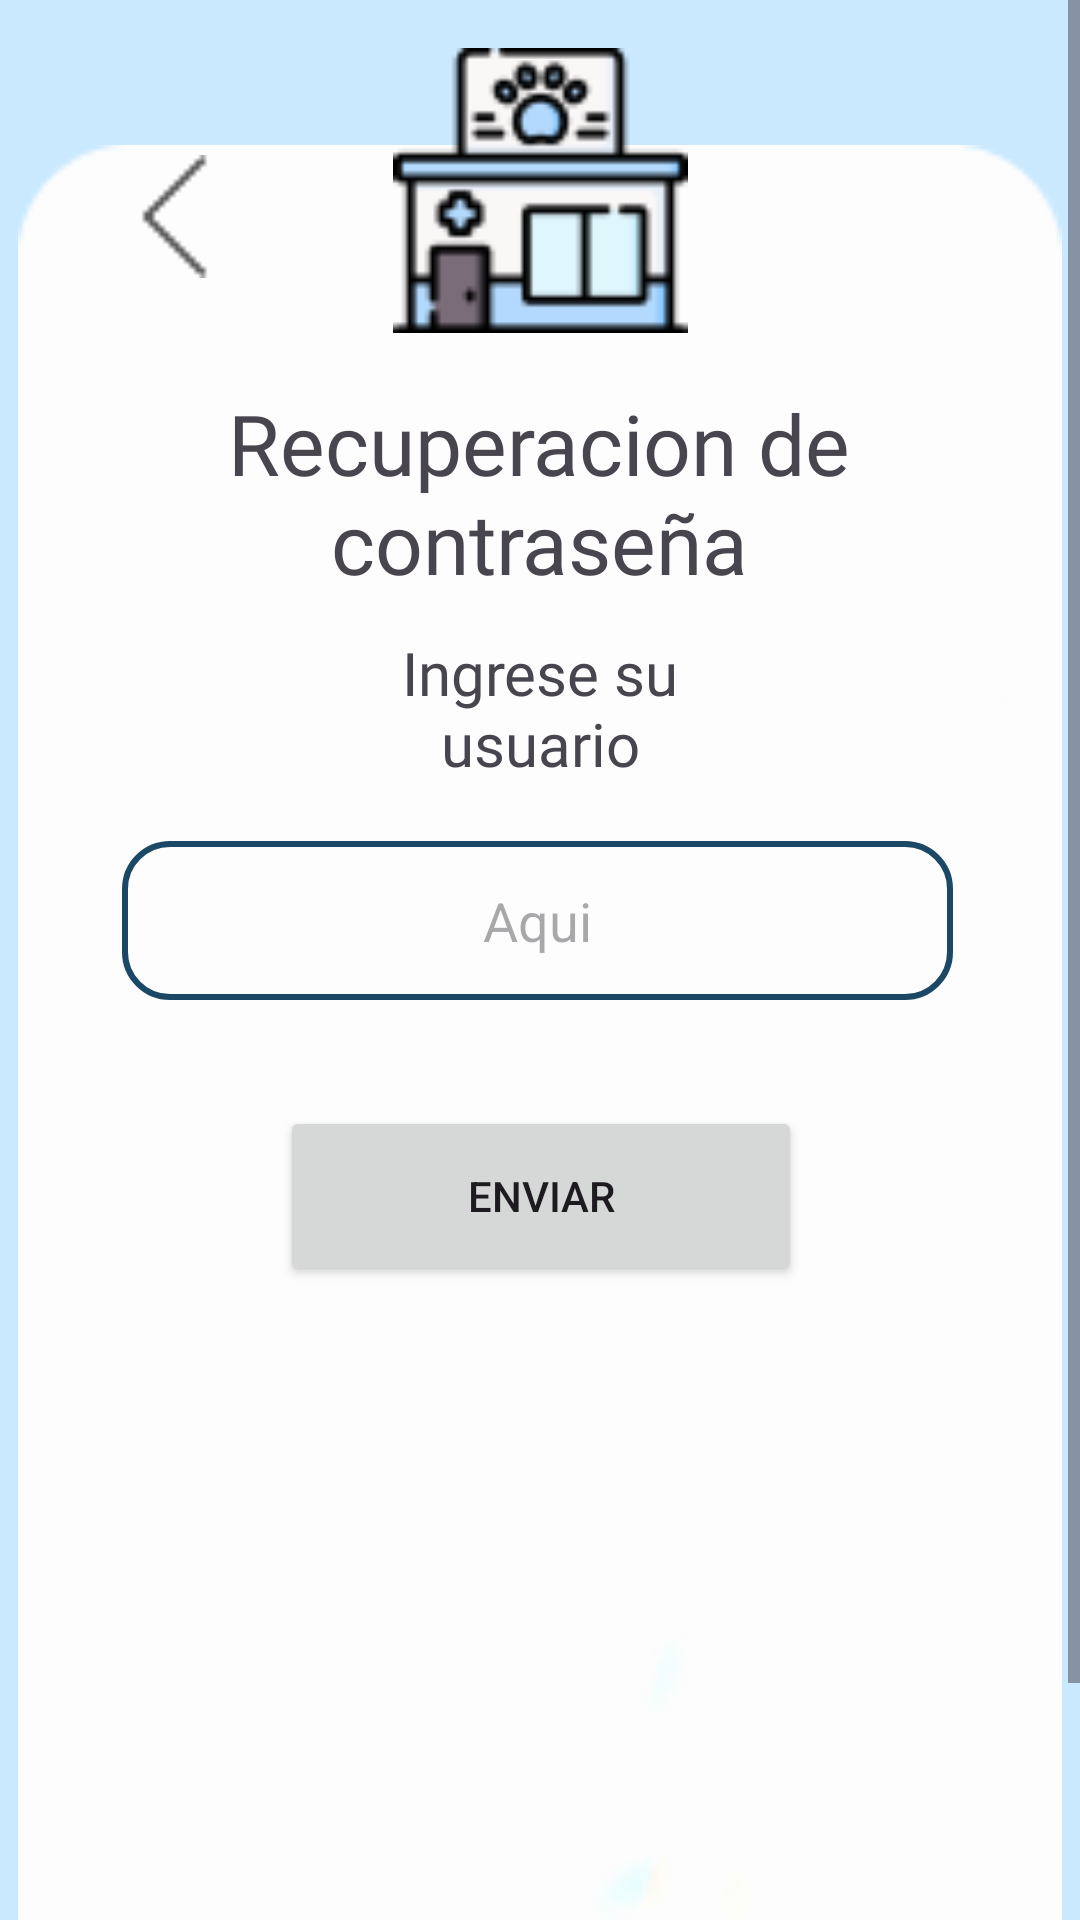

Screen size 1080×1920. Icon name, then its center in pixels as point (x, y):
clinic: point (540, 190)
flecha: point (174, 216)
